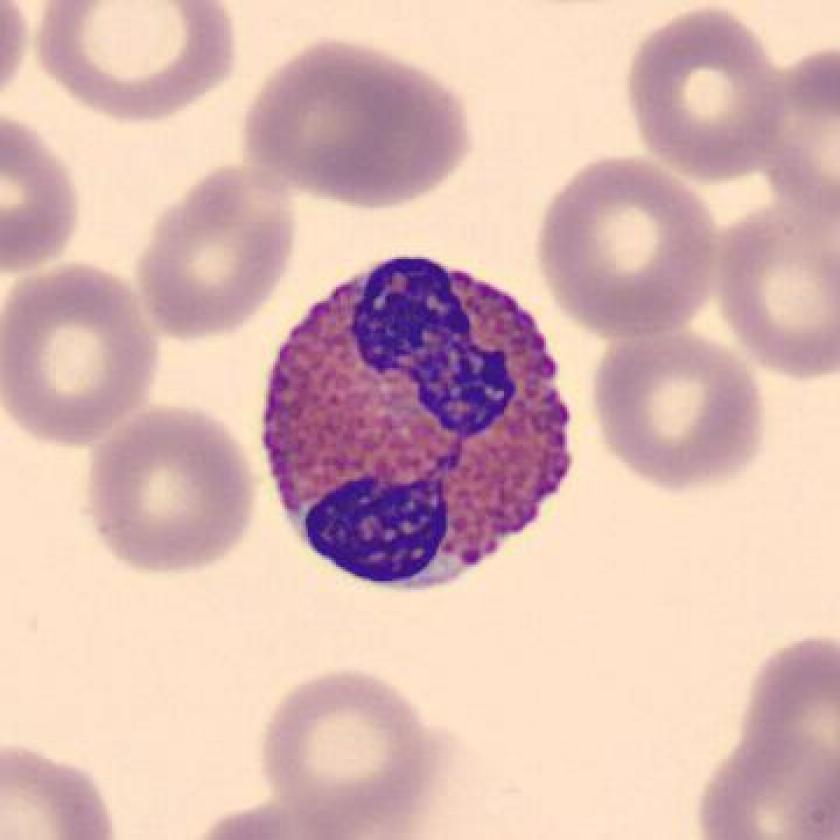eosinophil: (253, 242, 580, 598)
